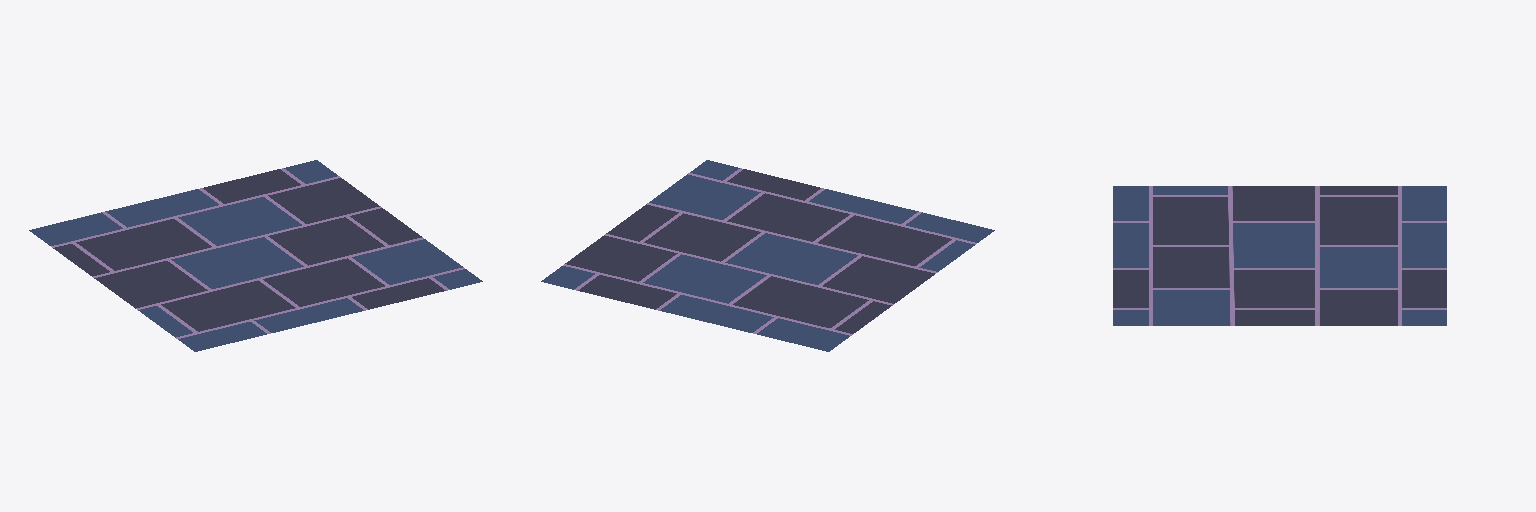
The picture shows the model from 3 angles: view 1: azimuth 30°, elevation 25°; view 2: azimuth 150°, elevation 25°; view 3: azimuth 270°, elevation 25°; orthographic projection.
Parts seen in each view (by area): view 1: 平面; view 2: 平面; view 3: 平面.
Boxes of the visible parts, x1=… form: 平面: x1=29, y1=160, x2=482, y2=351; 平面: x1=541, y1=160, x2=994, y2=351; 平面: x1=1113, y1=186, x2=1446, y2=325.
Bounding box in the file's own units: 500 × 0 × 500.
1 materials, 1 textured.